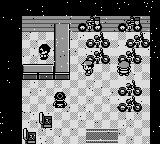leer: (86, 32, 111, 48), (118, 48, 142, 64), (118, 96, 142, 112), (86, 48, 111, 63), (126, 33, 150, 48), (118, 81, 142, 96)
main: (81, 61, 94, 75)
no-caminable: (1, 0, 160, 143), (22, 16, 150, 32), (54, 24, 69, 79), (23, 65, 53, 79), (22, 128, 38, 144), (40, 113, 54, 128)
npc: (54, 92, 67, 108), (117, 61, 131, 75), (39, 44, 50, 59)
puerta: (83, 128, 122, 143)
